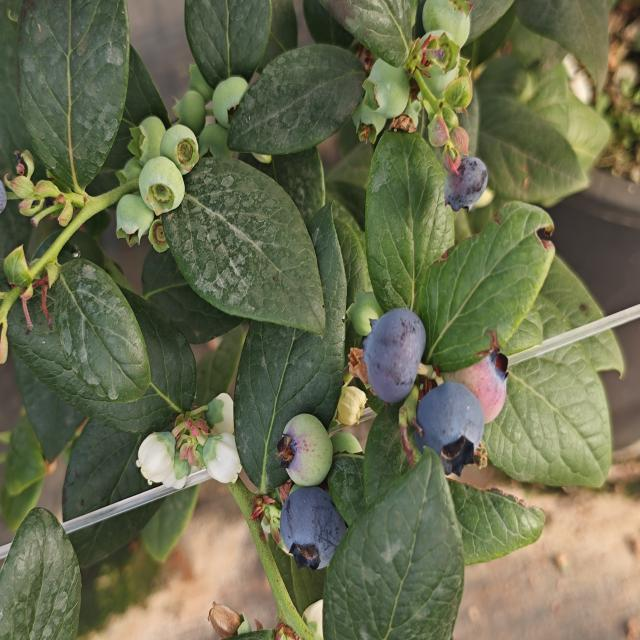ripe: (356, 304, 429, 409), (416, 384, 488, 478), (273, 489, 341, 569), (443, 149, 491, 214)
